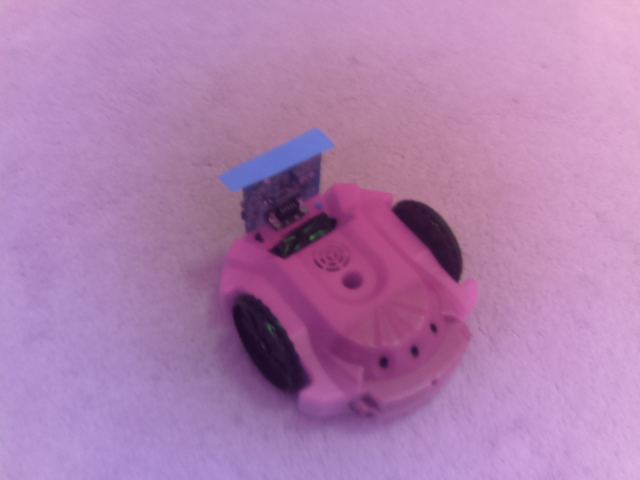board: (216, 119, 337, 234)
chassis: (203, 111, 494, 429)
